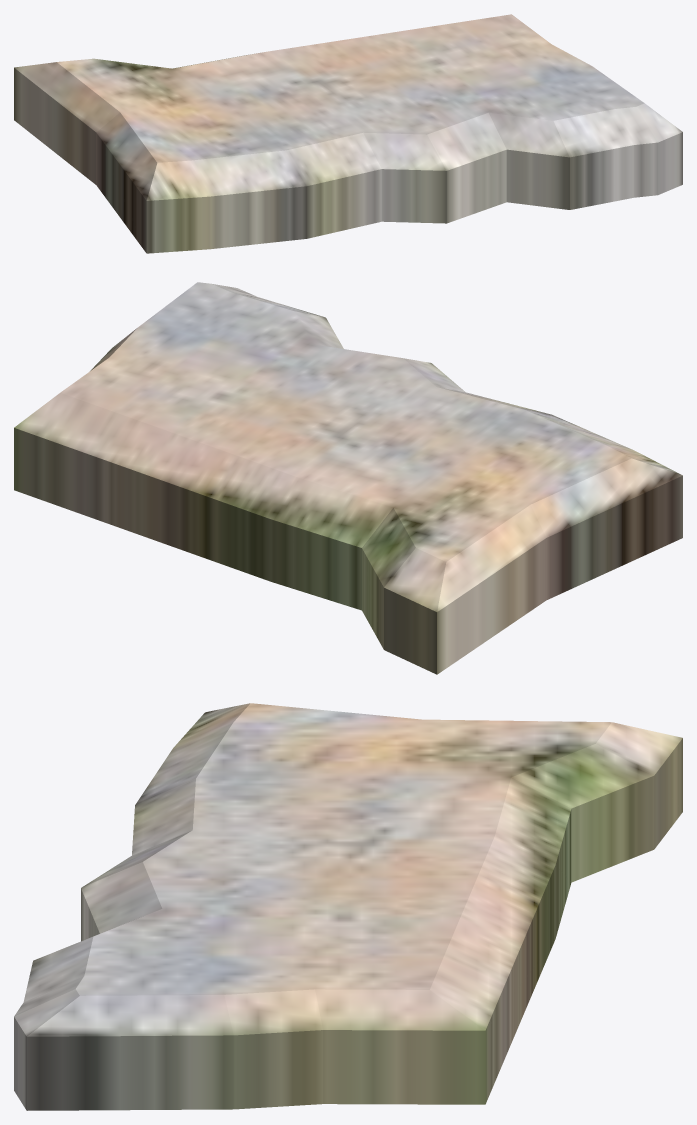
File: stone.19.fbx
The picture shows the model from 3 angles, top to bottom: view 1: azimuth 30°, elevation 25°; view 2: azimuth 150°, elevation 25°; view 3: azimuth 270°, elevation 25°; orthographic projection. The views are drawn at different scales.
Visible parts, largest first — view 1: stone.19; view 2: stone.19; view 3: stone.19.
Boxes of the visible parts, x1,y1,x2,y2 form: stone.19: (14, 14, 682, 253); stone.19: (14, 282, 682, 674); stone.19: (14, 703, 682, 1110).
Bounding box in the file's own units: 66.61 × 9.74 × 58.04.
1 material, 1 textured.
